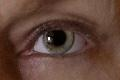eye: (42, 30, 75, 53)
